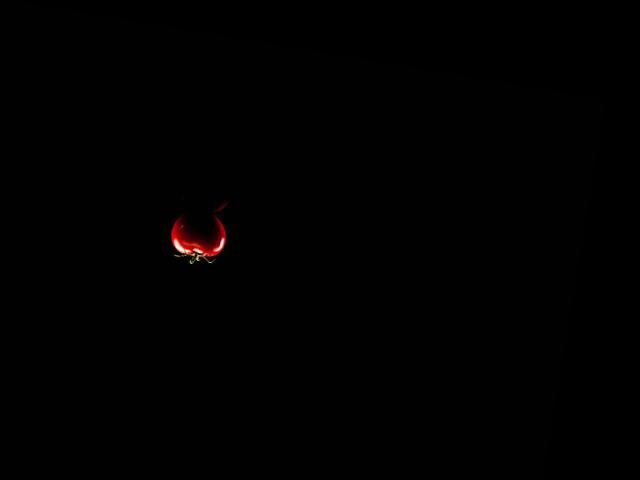tomato: (167, 209, 228, 261)
